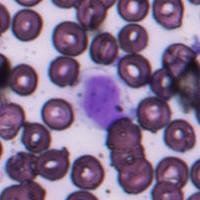M: (78, 70, 122, 130)
